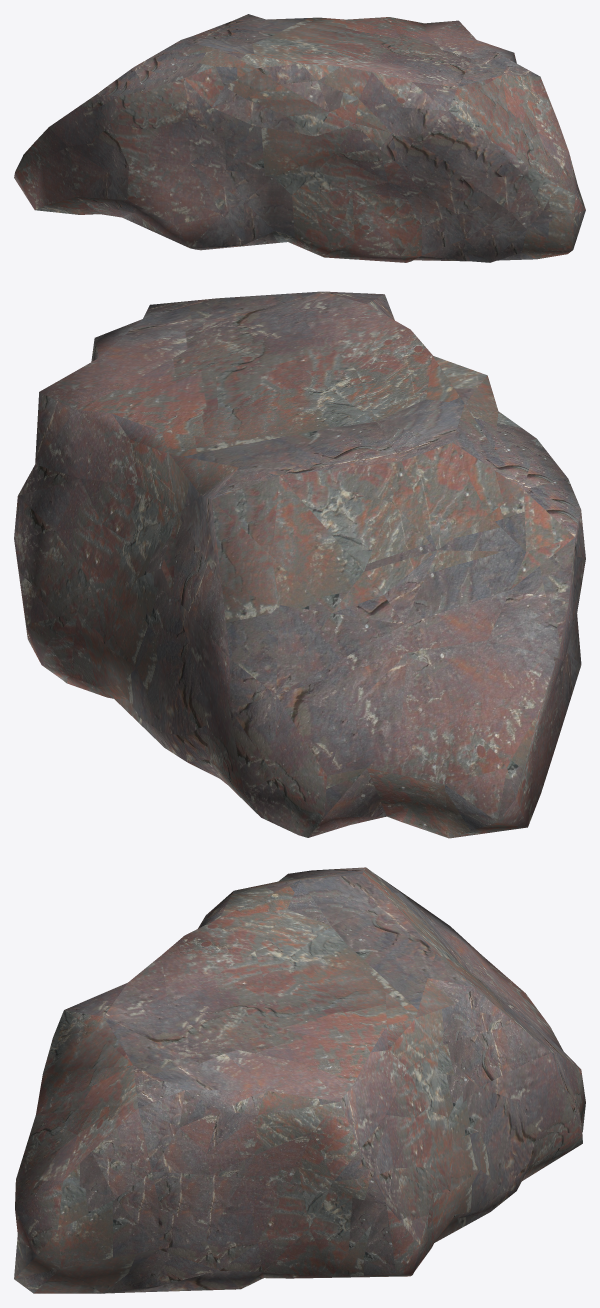
3 views of the same model, one above another, from view 1: azimuth 30°, elevation 25°; view 2: azimuth 150°, elevation 25°; view 3: azimuth 270°, elevation 25° (orthographic). The views are drawn at different scales.
Parts seen in each view (by area): view 1: Mesh1 skpD4_1 Model; view 2: Mesh1 skpD4_1 Model; view 3: Mesh1 skpD4_1 Model.
Boxes of the visible parts, x1=… form: Mesh1 skpD4_1 Model: x1=14, y1=14, x2=585, y2=262; Mesh1 skpD4_1 Model: x1=14, y1=291, x2=585, y2=838; Mesh1 skpD4_1 Model: x1=14, y1=867, x2=585, y2=1293.
Size of the model in its own units: 0.1096 by 0.0533 by 0.1062.
Materials: 1 (1 with a texture image).
